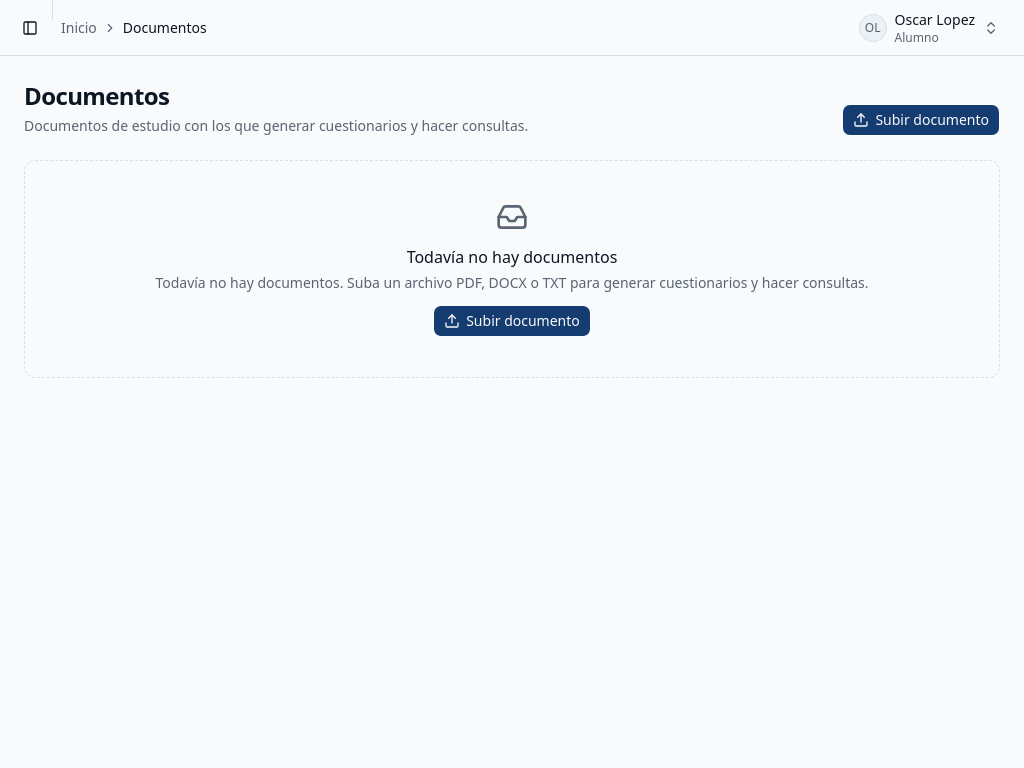
Test: Subir y eliminar documentos › CA-DOC-01 el estado vacío ofrece Subir documento
This screenshot has width=1024, height=768.
Expected: the text "Todavía no hay documentos. Suba un archivo PDF, DOCX o TXT para generar cuestionarios y hacer consultas." is shown, [155, 273, 869, 292]
Click the 1st button "Subir documento" at coordinates (921, 120), box [842, 104, 1000, 136]
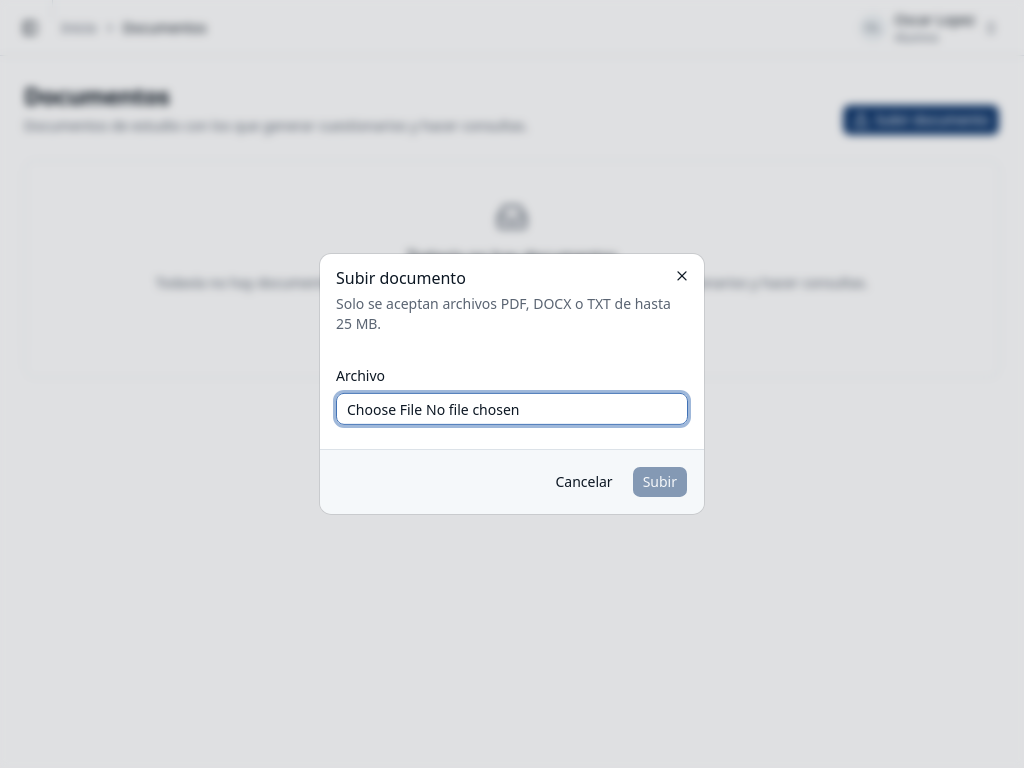
Now the file field labelled "Archivo" is shown, box [336, 393, 688, 425]
